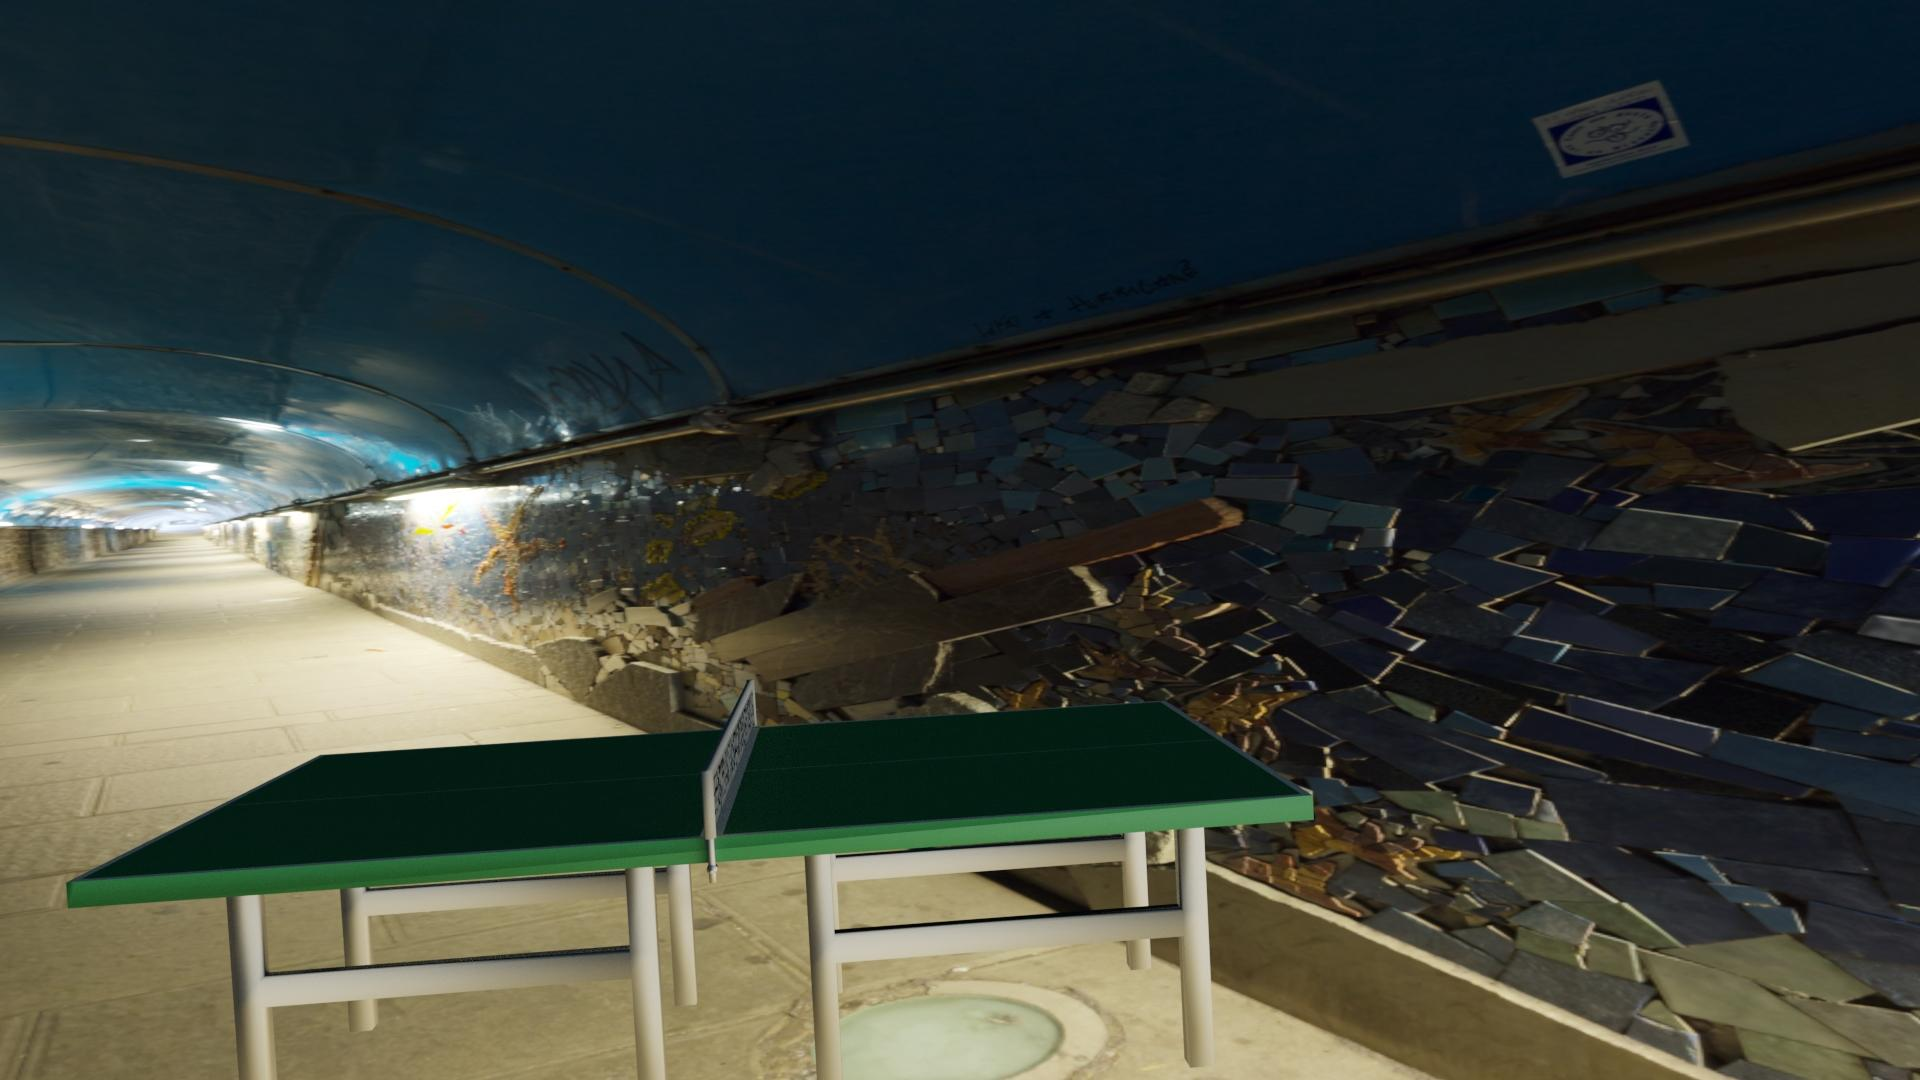table: (80, 702, 1302, 880)
